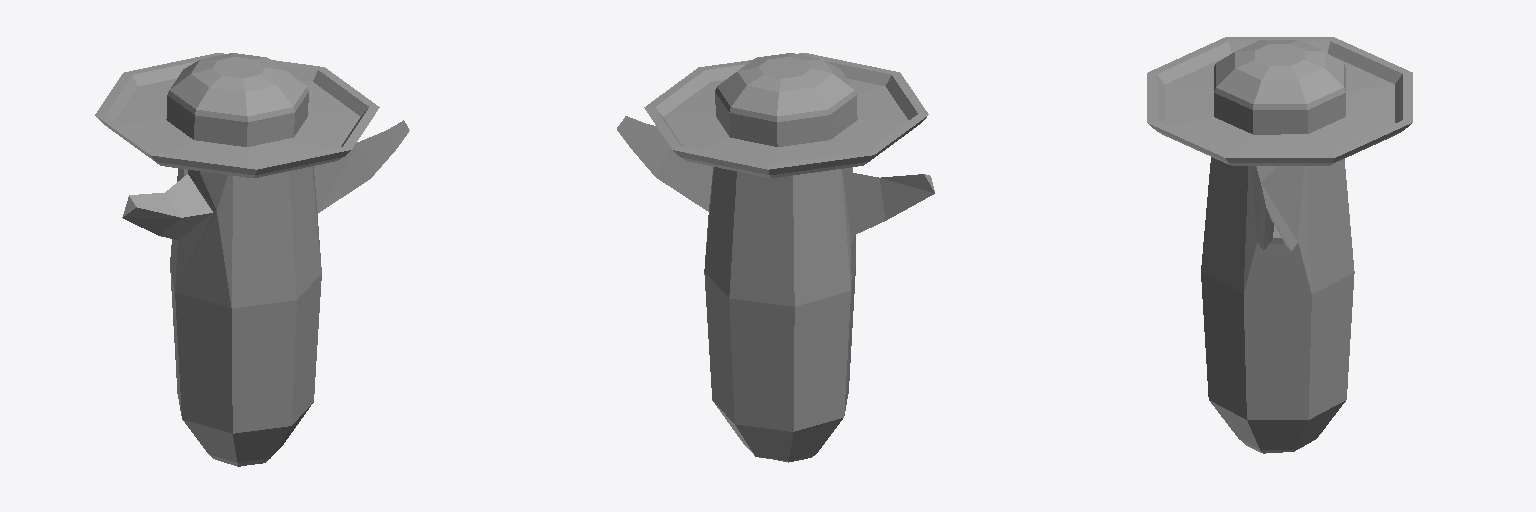
Rendered from CactusWithSombrero.obj.
3 views of the same model, side by side, from view 1: azimuth 30°, elevation 25°; view 2: azimuth 150°, elevation 25°; view 3: azimuth 270°, elevation 25° (orthographic).
Parts seen in each view (by area): view 1: Cube.009_Cube.001; view 2: Cube.009_Cube.001; view 3: Cube.009_Cube.001.
Boxes of the visible parts, box(x1,y1,x2,y2) form: Cube.009_Cube.001: box(95, 53, 409, 466); Cube.009_Cube.001: box(617, 53, 934, 462); Cube.009_Cube.001: box(1147, 37, 1412, 453).
Size of the model in its own units: 1.6 by 1.96 by 1.23.